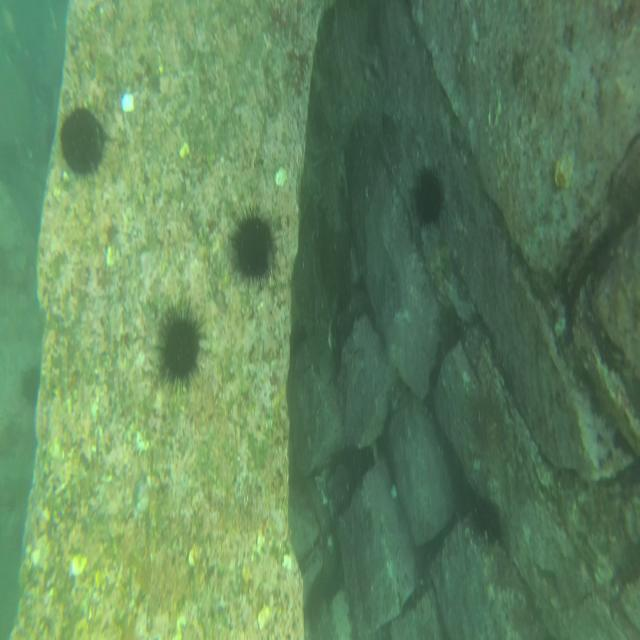echinus: (154, 300, 212, 396), (233, 200, 277, 292), (58, 103, 104, 181), (409, 167, 449, 234), (468, 492, 507, 547), (16, 364, 44, 404)
